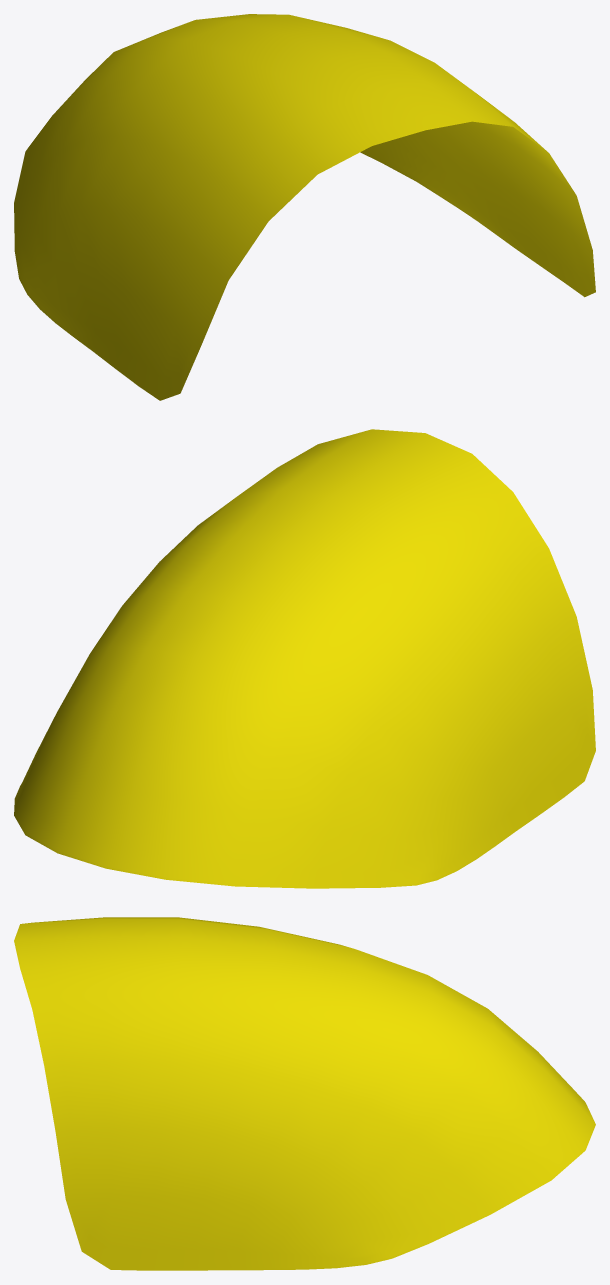
The model's file is Cockpit_Glass.fbx.
3 views of the same model, one above another, from view 1: azimuth 30°, elevation 25°; view 2: azimuth 150°, elevation 25°; view 3: azimuth 270°, elevation 25° (orthographic). The views are drawn at different scales.
Parts seen in each view (by area): view 1: Cockpit_Glass; view 2: Cockpit_Glass; view 3: Cockpit_Glass.
Boxes of the visible parts, <box> form: Cockpit_Glass: <box>14,14,595,400</box>; Cockpit_Glass: <box>14,429,595,888</box>; Cockpit_Glass: <box>14,917,595,1270</box>.
Bounding box in the file's own units: 64.4 × 38.12 × 83.76.
